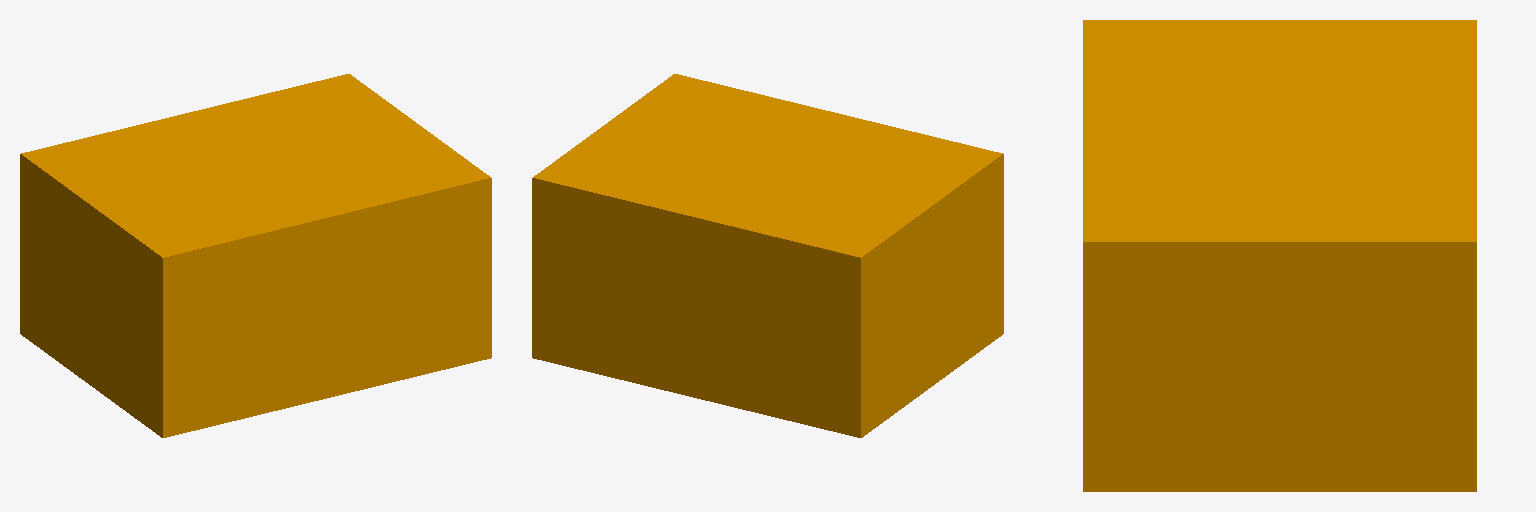
URDF robot description (01-myfirst):
<?xml version="1.0"?>
<robot name="01-myfirst">
  <link name="base">
    <visual>
      <geometry>
        <box size="0.8 0.6 0.42"/>
      </geometry>
    </visual>
  </link>
</robot>
				

--- Facts derived from the render (not from the file) ---
The picture shows the robot from 3 angles, left to right: view 1: azimuth 30°, elevation 25°; view 2: azimuth 150°, elevation 25°; view 3: azimuth 270°, elevation 25°; orthographic projection.
Robot: 01-myfirst — 1 links, 0 joints (none); root link base; default pose: all joints at 0.
Links seen in each view (by area): view 1: base; view 2: base; view 3: base.
Boxes of the visible links, <box> form: base: <box>20,74,491,437</box>; base: <box>532,74,1003,437</box>; base: <box>1083,20,1476,491</box>.
Bounding box of the posed robot: 0.8 × 0.6 × 0.42 m (x, y, z).
Geometry: primitives only (box / cylinder / sphere), no mesh files.
